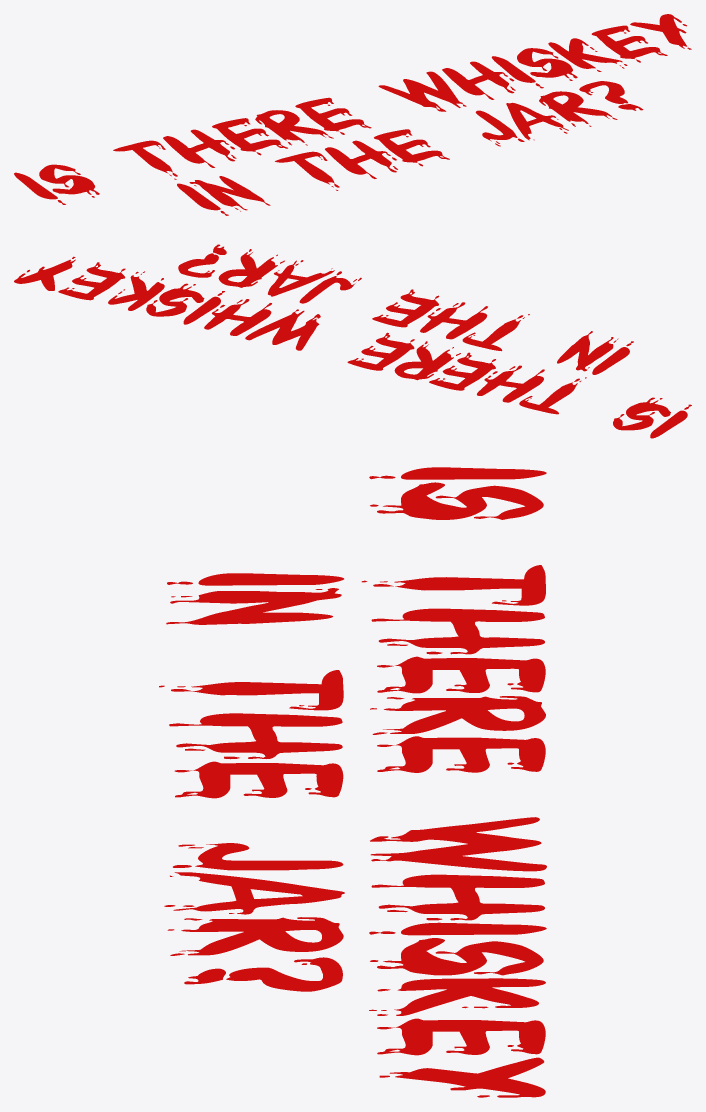
3 views of the same model, one above another, from view 1: azimuth 30°, elevation 25°; view 2: azimuth 150°, elevation 25°; view 3: azimuth 270°, elevation 25° (orthographic). The views are drawn at different scales.
Visible parts, largest first — view 1: Text; view 2: Text; view 3: Text.
Boxes of the visible parts, left/top/right/bottom form: Text: left=14, top=14, right=691, bottom=215; Text: left=14, top=244, right=691, bottom=438; Text: left=159, top=467, right=546, bottom=1097.
Size of the model in its own units: 737 by 3.12e-05 by 192.
